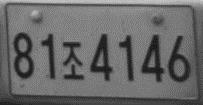1: (117, 33, 135, 82), (40, 32, 55, 80)
4: (139, 33, 165, 82), (89, 31, 113, 81)
6: (167, 34, 191, 82)
8: (13, 31, 35, 79)
조: (61, 41, 84, 80)
